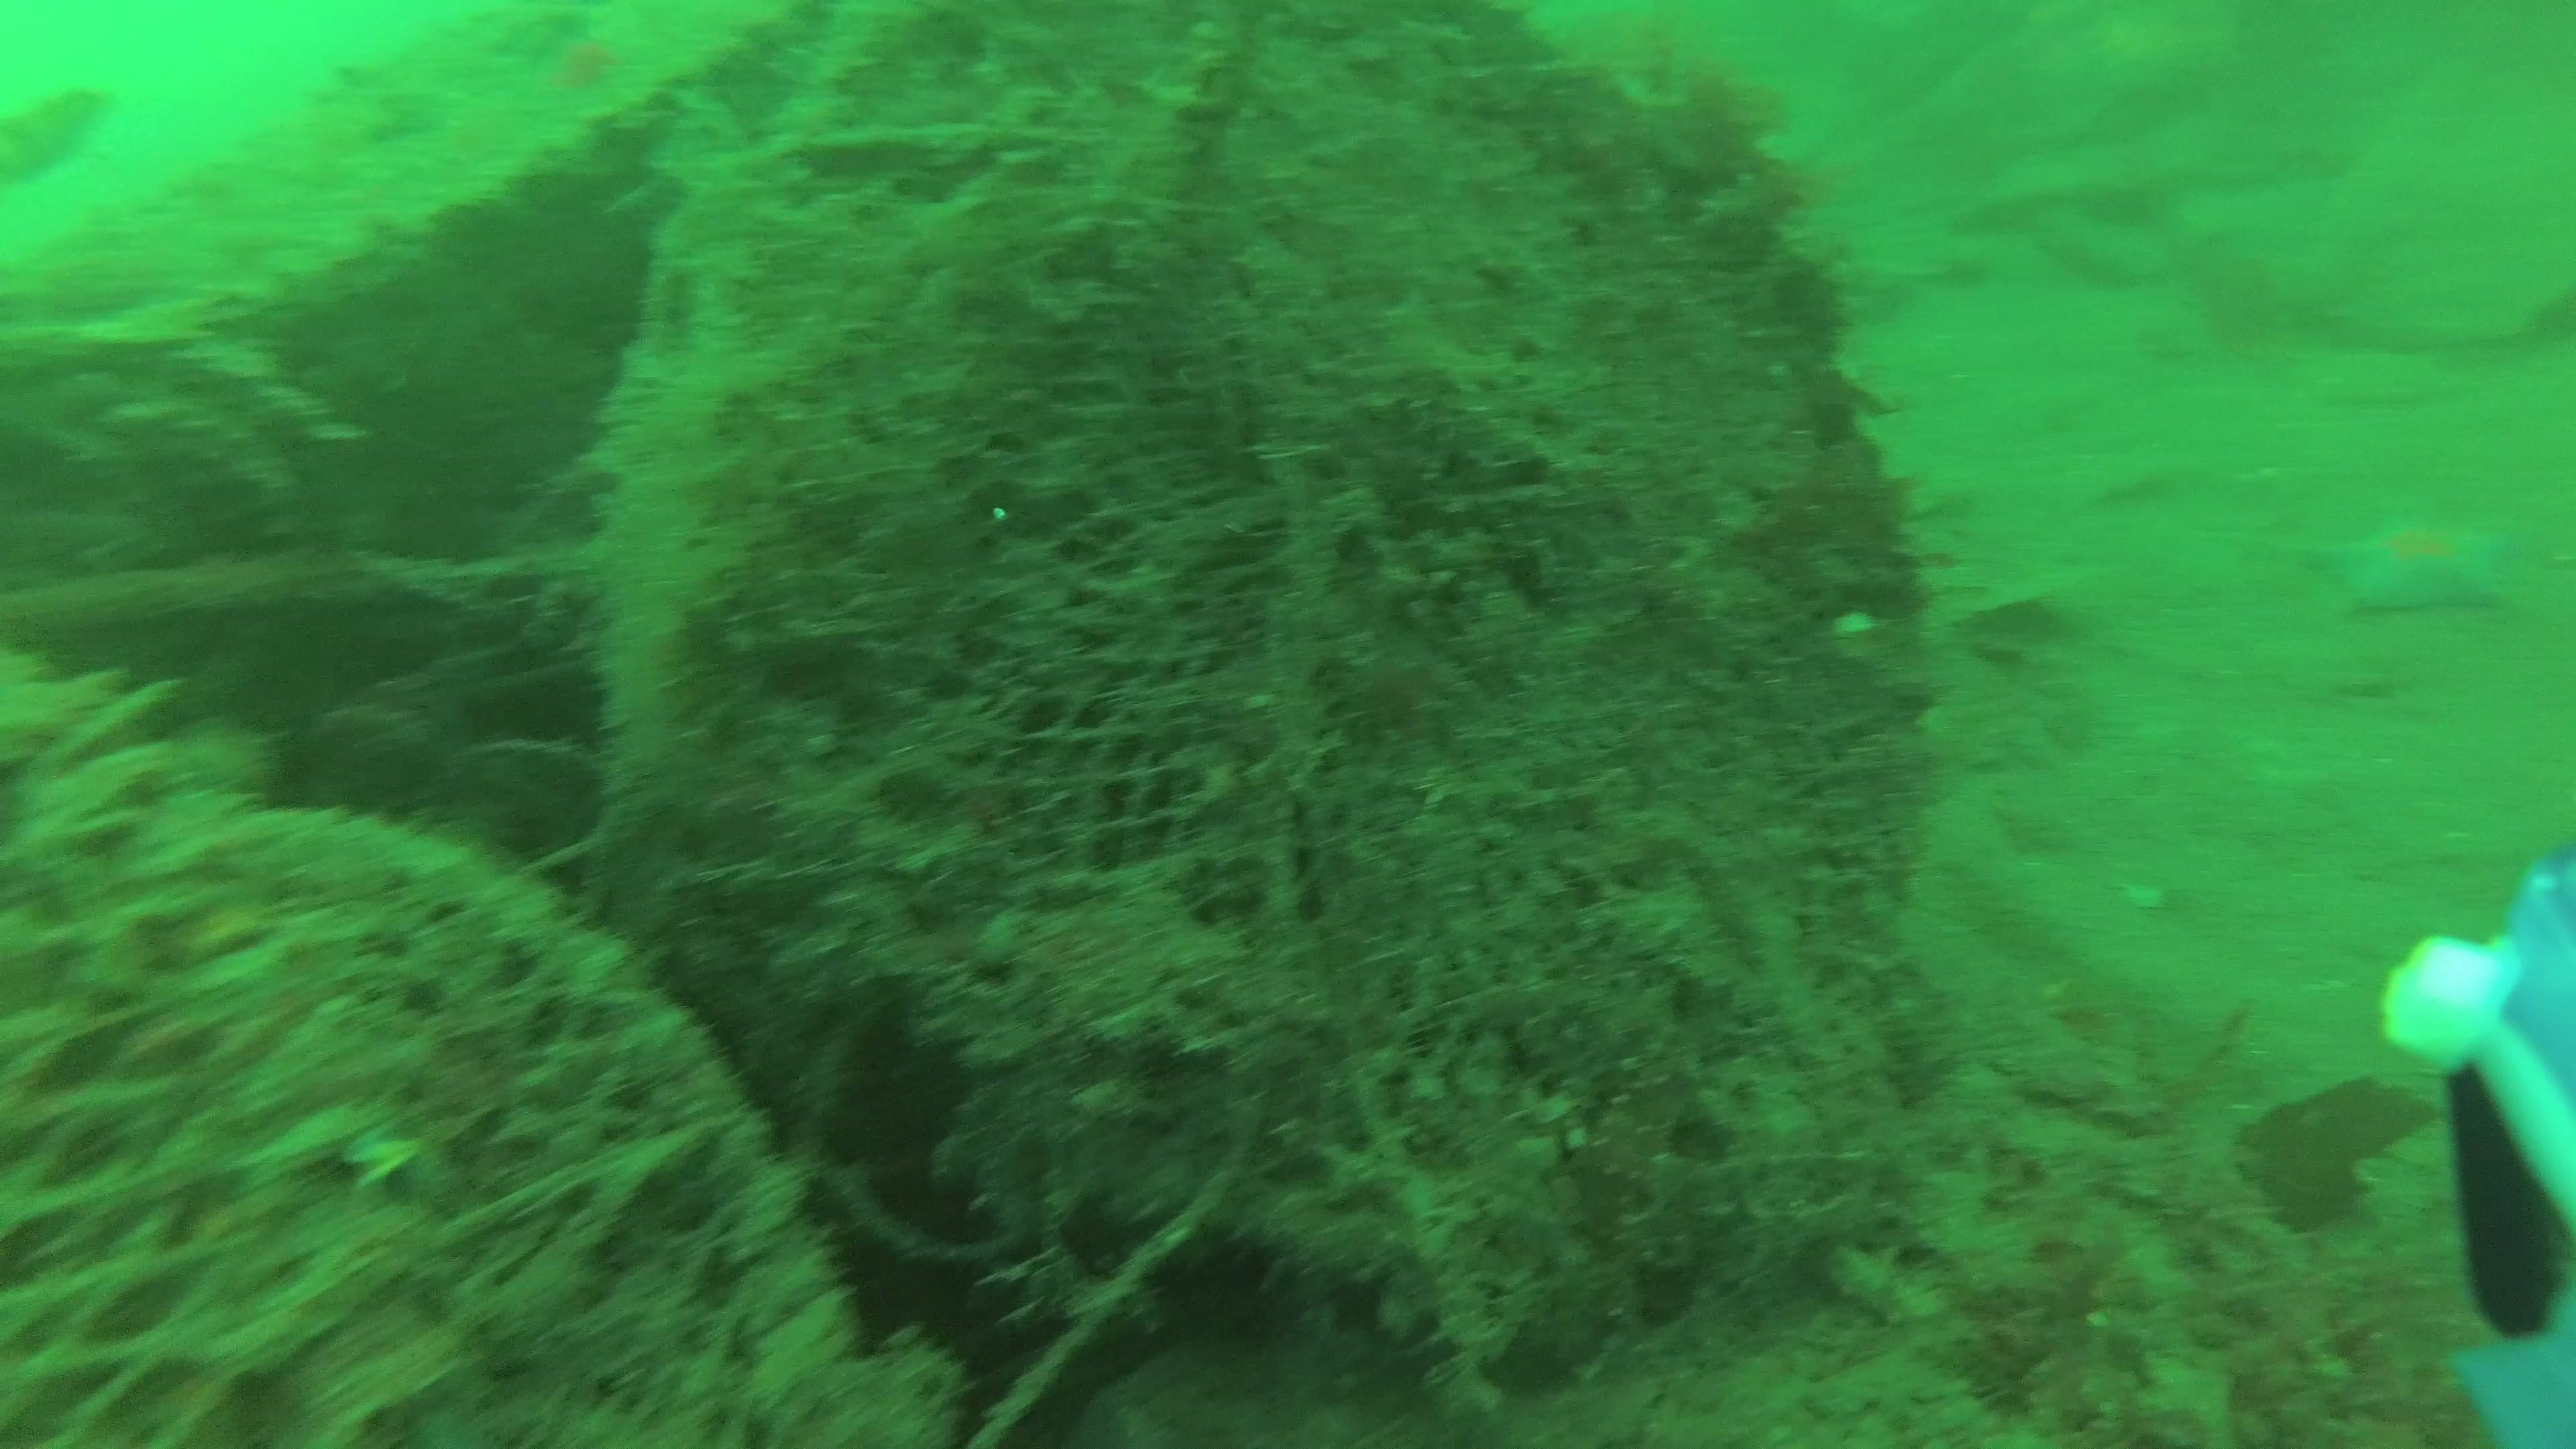starfish: (2309, 511, 2521, 616)
